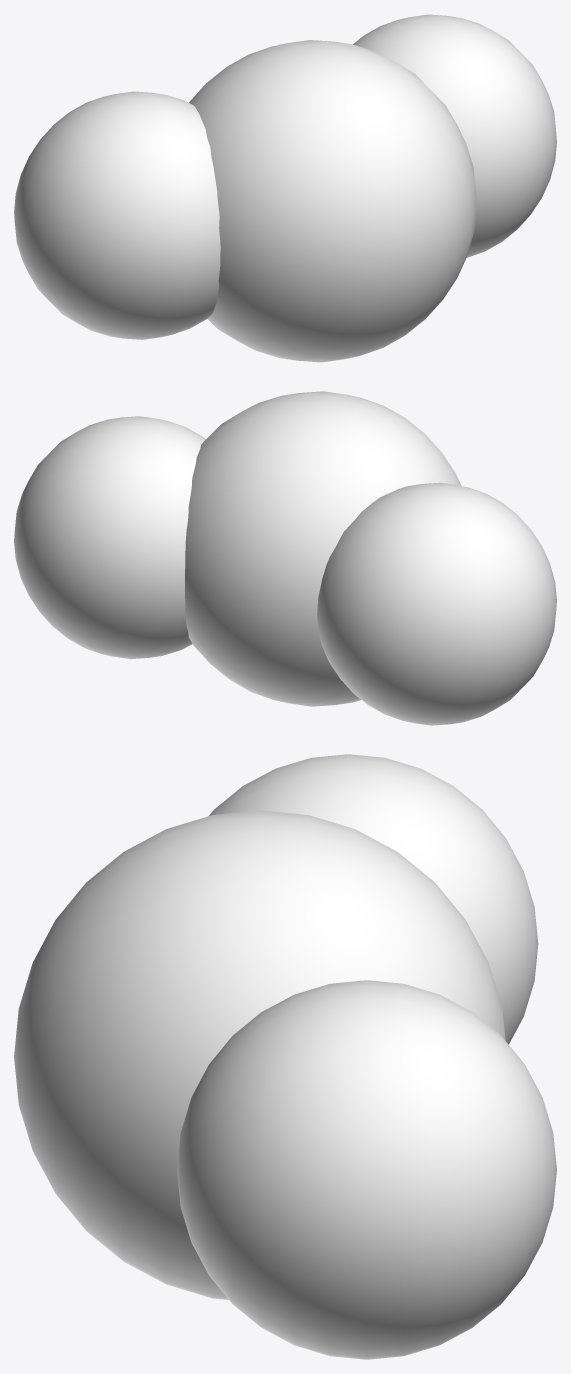
File: smoke.obj
The picture shows the model from 3 angles, top to bottom: view 1: azimuth 30°, elevation 25°; view 2: azimuth 150°, elevation 25°; view 3: azimuth 270°, elevation 25°; orthographic projection. The views are drawn at different scales.
Parts seen in each view (by area): view 1: 球.003; view 2: 球.003; view 3: 球.003.
Boxes of the visible parts, x1=… form: 球.003: x1=14, y1=14, x2=556, y2=362; 球.003: x1=14, y1=391, x2=556, y2=725; 球.003: x1=14, y1=754, x2=556, y2=1359.
Size of the model in its own units: 3.05 by 1.65 by 1.82.
